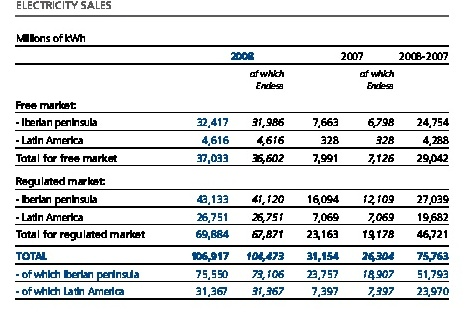table: (0, 0, 465, 317)
